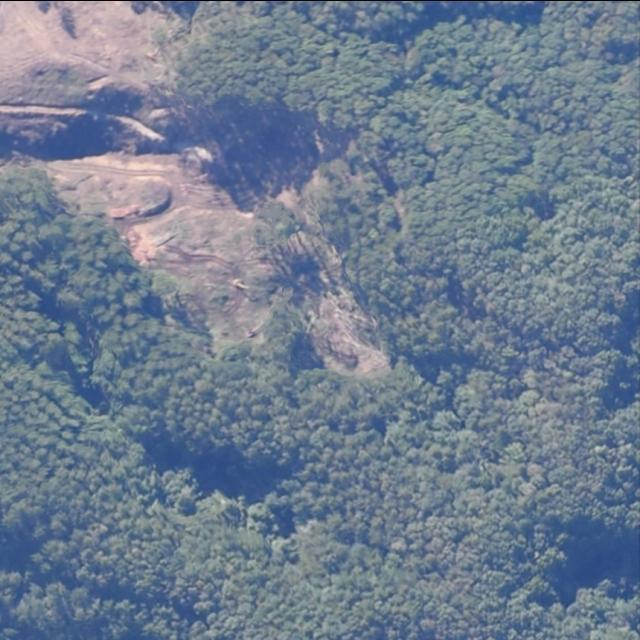landslide: (0, 0, 388, 374)
